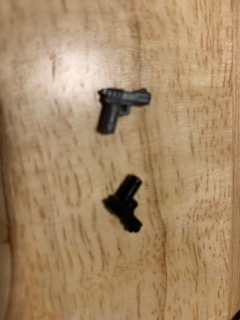pistol: (93, 82, 153, 141), (101, 171, 148, 236)
